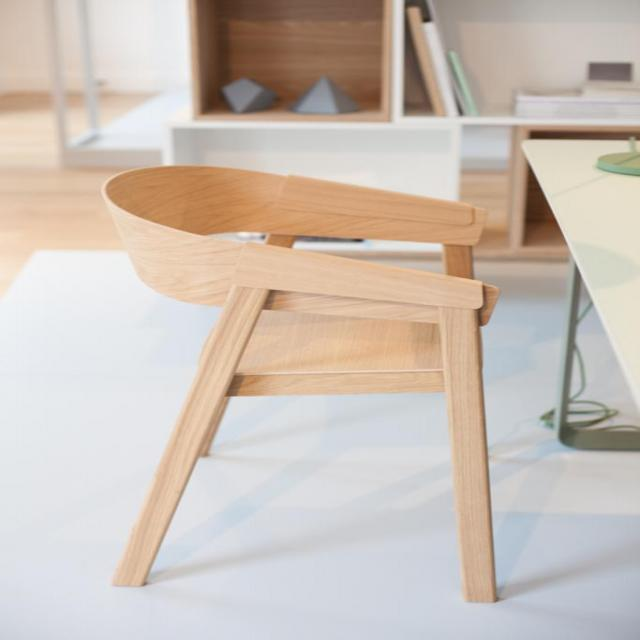table: (513, 136, 639, 412)
